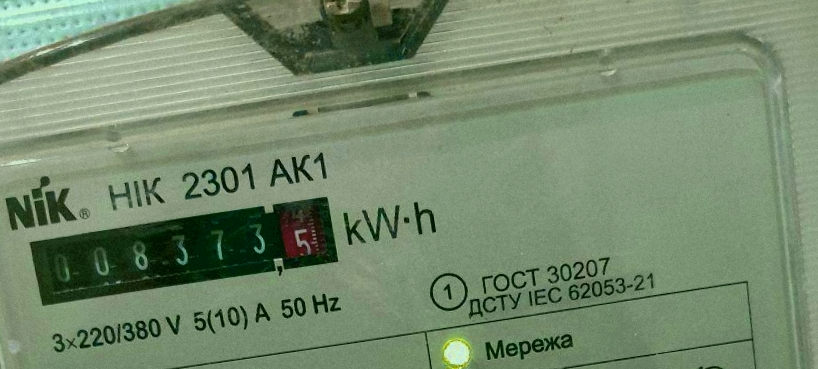0: (49, 247, 74, 286), (89, 241, 113, 279)
3: (244, 217, 271, 257), (167, 229, 193, 268)
4: (287, 203, 308, 226)
5: (291, 224, 315, 256)
7: (206, 222, 230, 264)
8: (127, 235, 153, 273)
screen: (22, 187, 349, 319)
